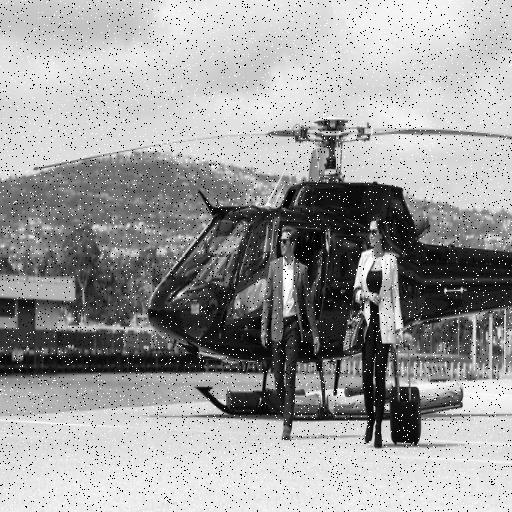helicopter: (28, 90, 512, 430)
